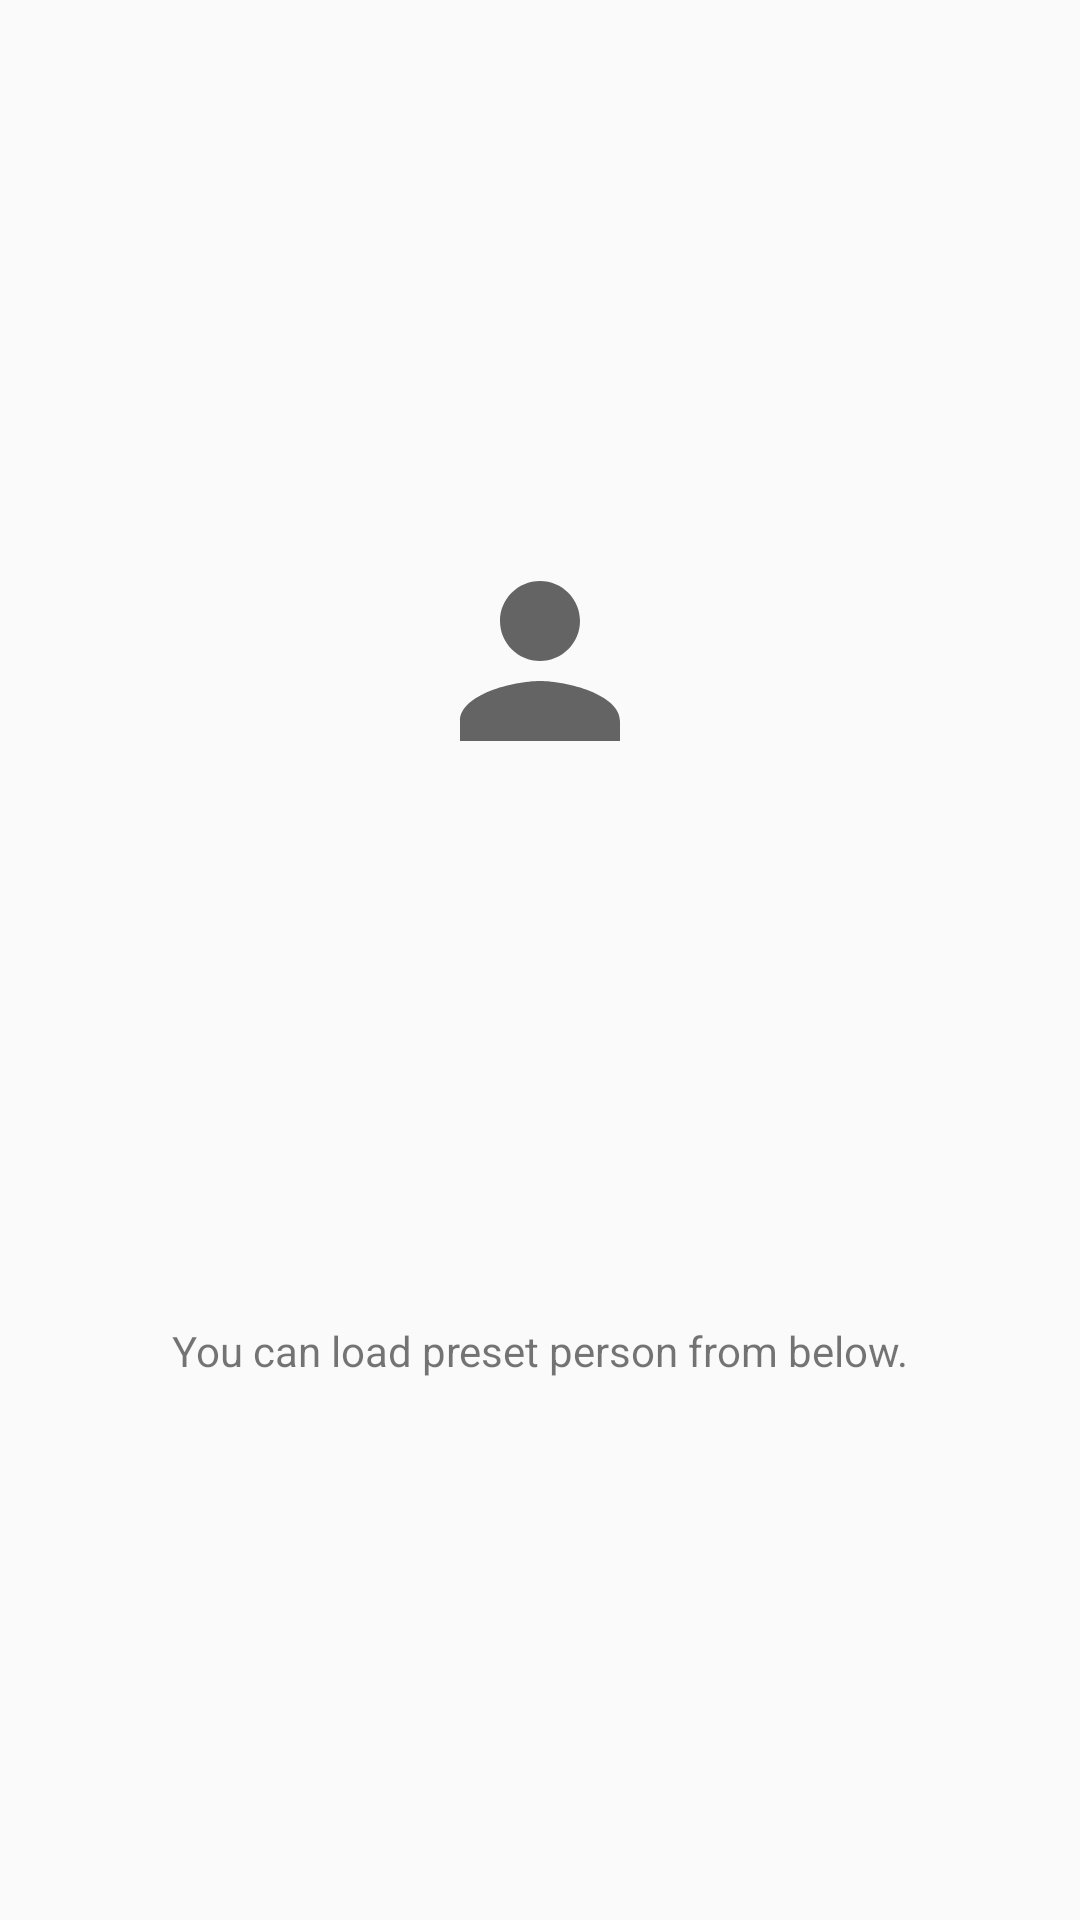

Named icons in this screenshot (1080w x 1920h) and their centers, (x,y):
person: (540,661)
